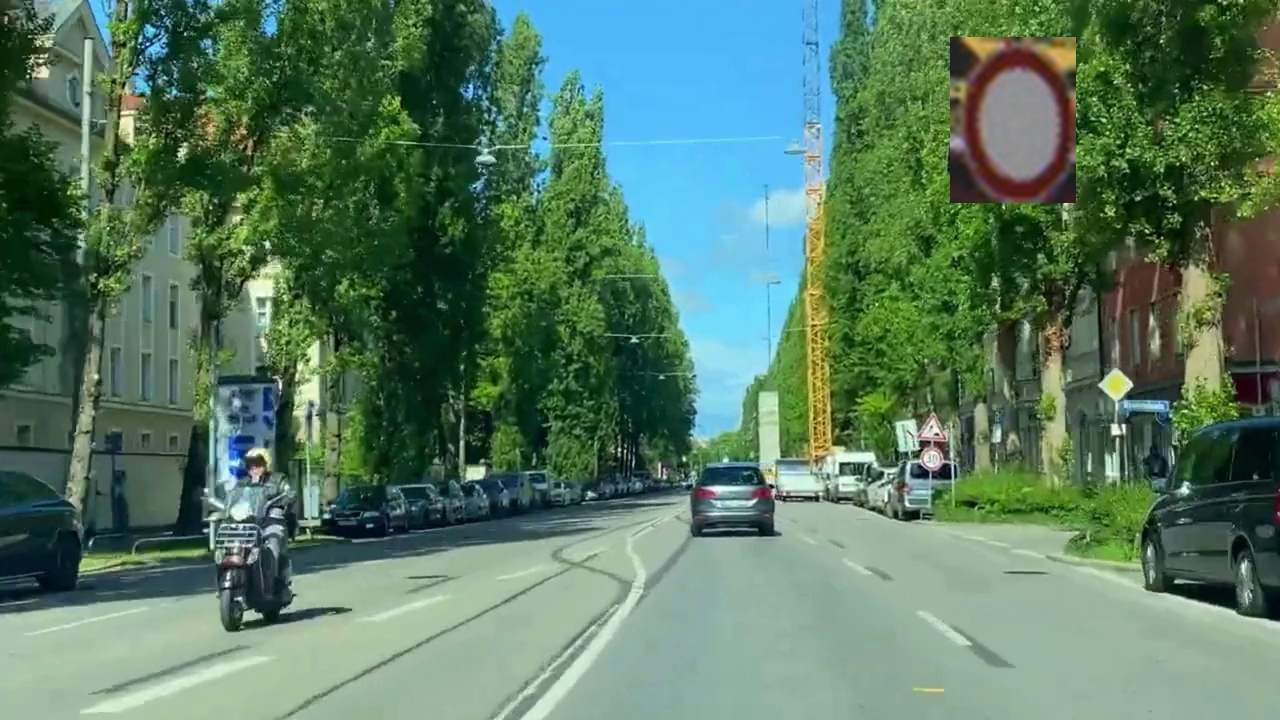No vehicles: (950, 37, 1076, 203)
